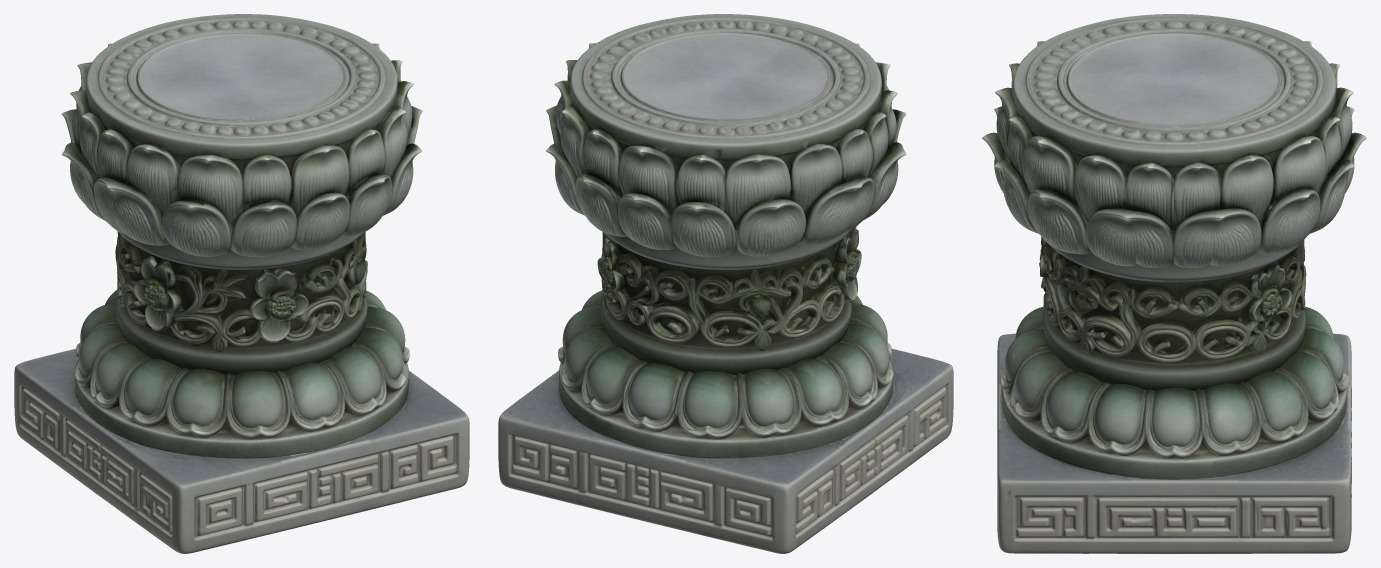
3 renders of one model, left to right at view 1: azimuth 30°, elevation 25°; view 2: azimuth 150°, elevation 25°; view 3: azimuth 270°, elevation 25°, orthographic. The views are drawn at different scales.
Parts seen in each view (by area): view 1: node_0; view 2: node_0; view 3: node_0.
Boxes of the visible parts, left/top/right/bottom form: node_0: left=14, top=14, right=469, bottom=553; node_0: left=498, top=14, right=953, bottom=553; node_0: left=982, top=14, right=1366, bottom=553.
Size of the model in its own units: 0.6985 by 0.817 by 0.7062.
Materials: 1 (1 with a texture image).
